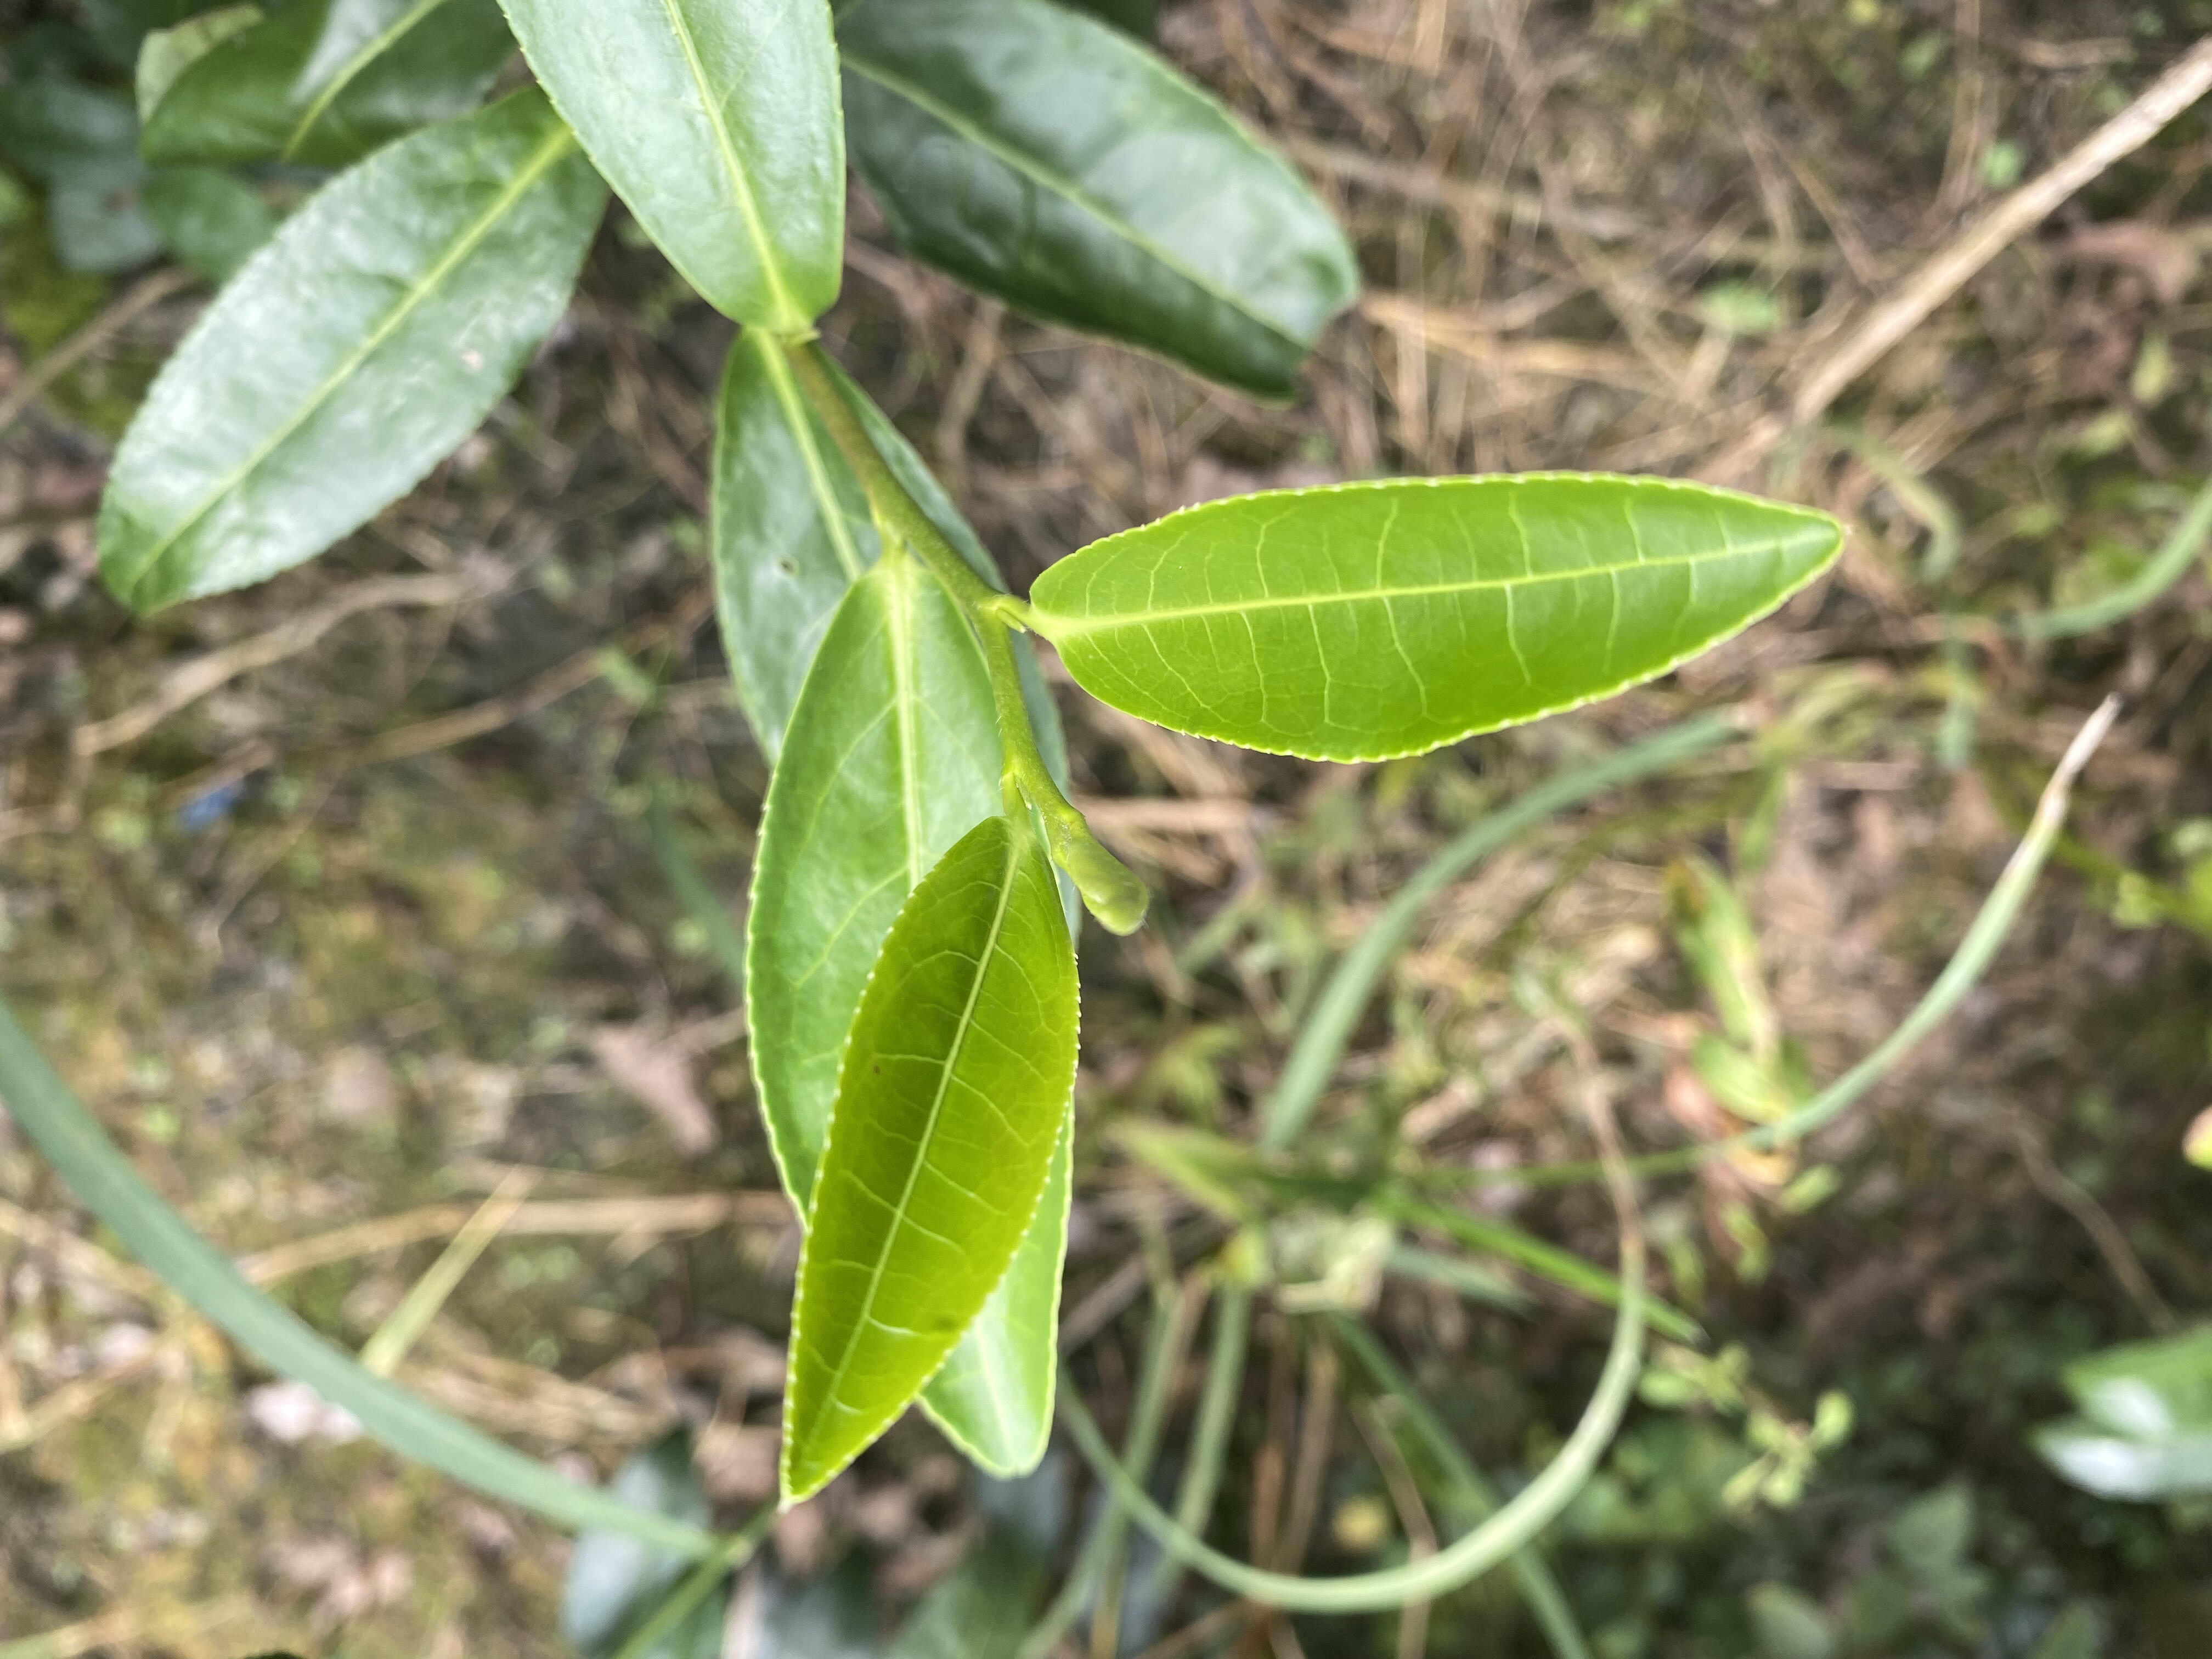healthy: (744, 547, 1080, 1485), (1029, 472, 1848, 767), (779, 810, 1078, 1504), (493, 2, 846, 331)
